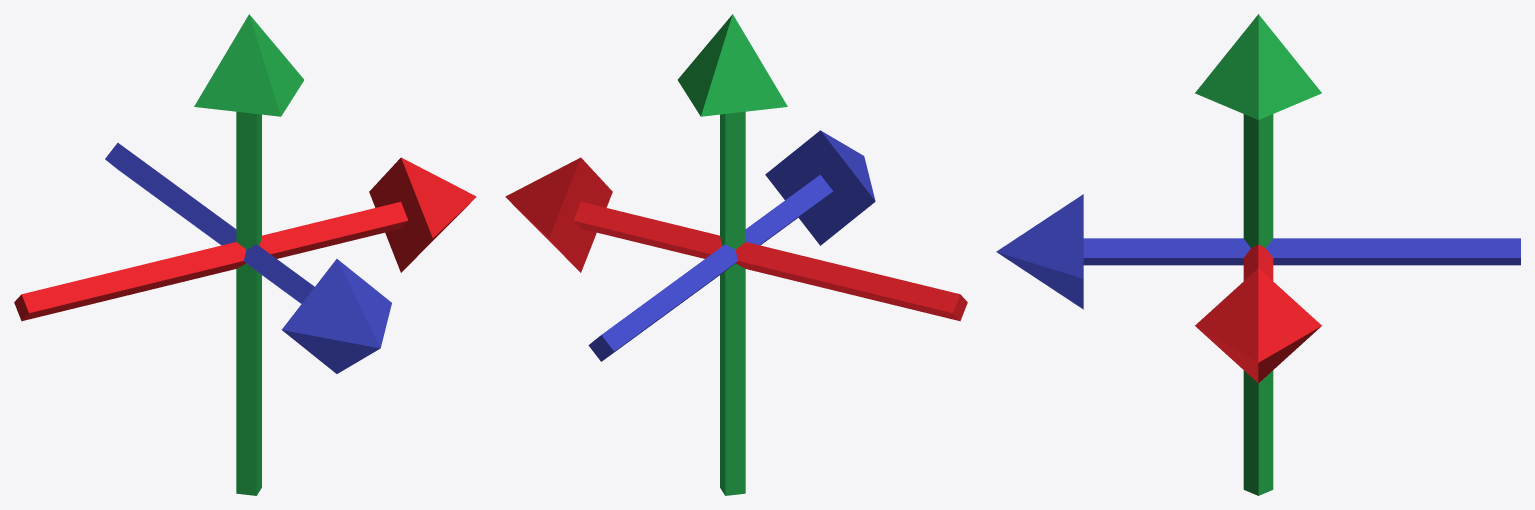
File: gizmo.gltf
3 renders of one model, left to right at view 1: azimuth 30°, elevation 25°; view 2: azimuth 150°, elevation 25°; view 3: azimuth 270°, elevation 25°, orthographic.
Visible parts, largest first — view 1: gizmo; view 2: gizmo; view 3: gizmo.
Boxes of the visible parts, x1,y1,x2,y2 form: gizmo: [14, 14, 476, 495]; gizmo: [505, 14, 967, 495]; gizmo: [996, 14, 1520, 495].
Size of the model in its own units: 1 by 1 by 1.
Materials: 1 (1 with a texture image).
